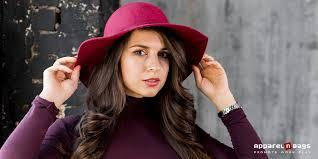cap: (69, 0, 208, 63)
